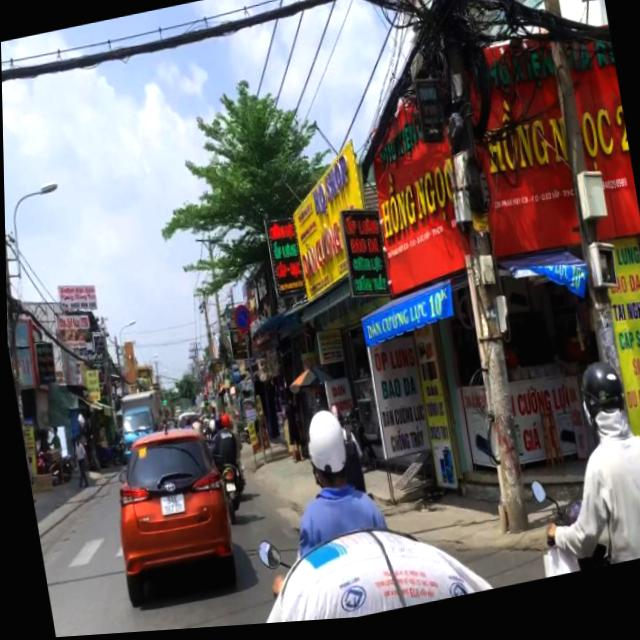Cam do xe: (231, 306, 252, 337)
